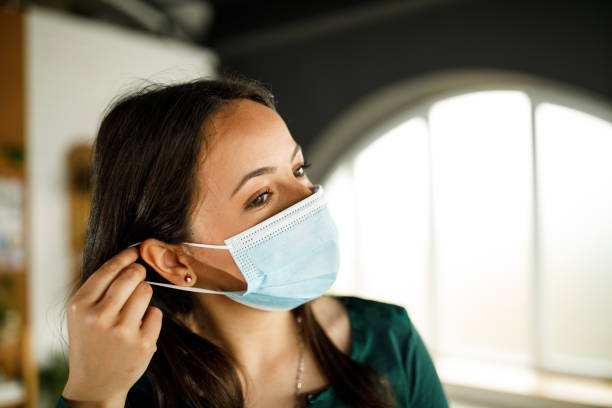with mask: (80, 84, 346, 311)
